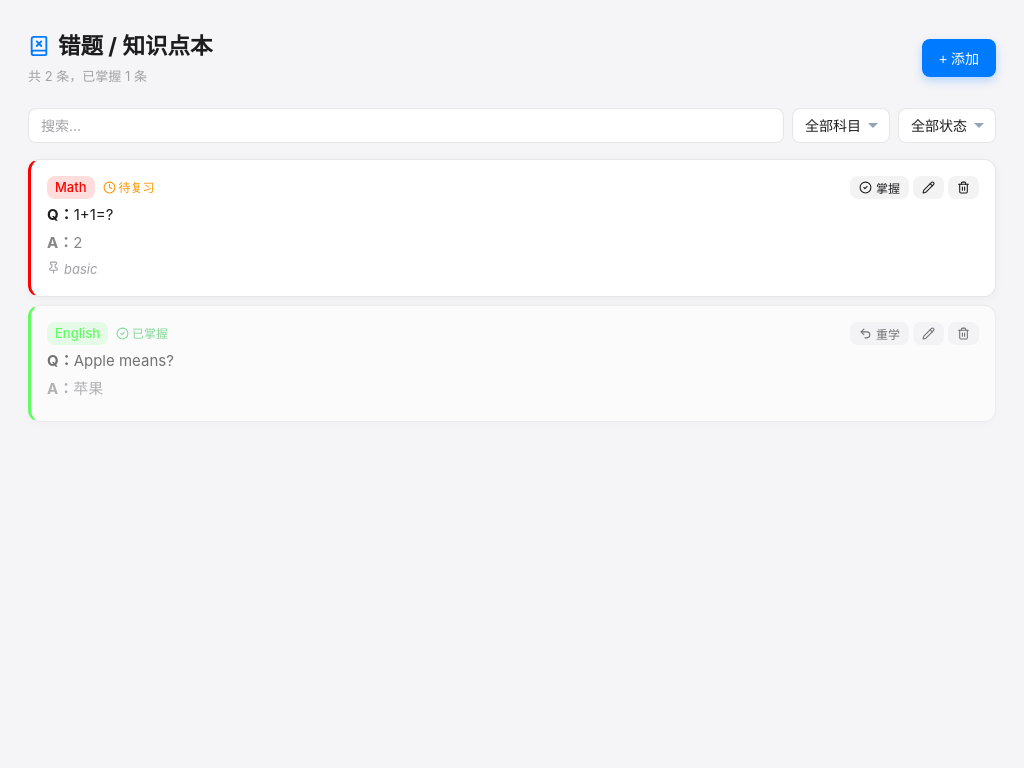
Scenario: MistakeBook Component › allows opening the add form
Click the button "+ 添加": (959, 58) x1=922 y1=39 x2=996 y2=77
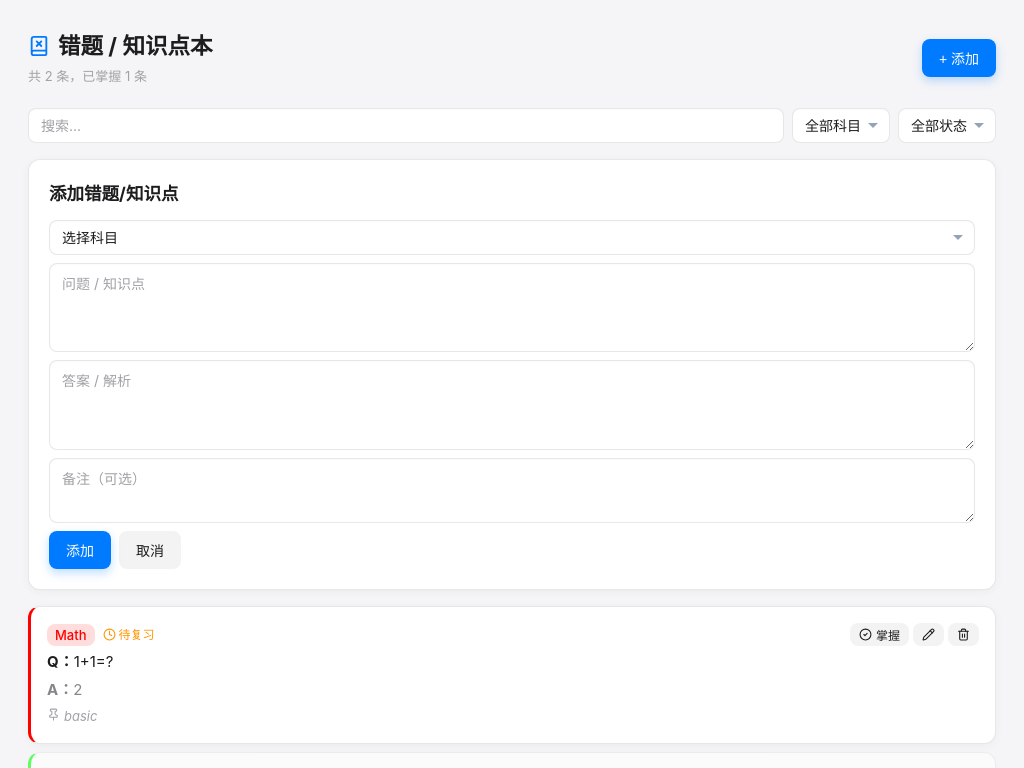
Check: the heading "添加错题/知识点" is shown, box x1=49 y1=183 x2=178 y2=204
Check: the text box with placeholder "问题 / 知识点" is shown, box x1=49 y1=263 x2=975 y2=352
Check: the text box with placeholder "答案 / 解析" is shown, box x1=49 y1=360 x2=975 y2=450
